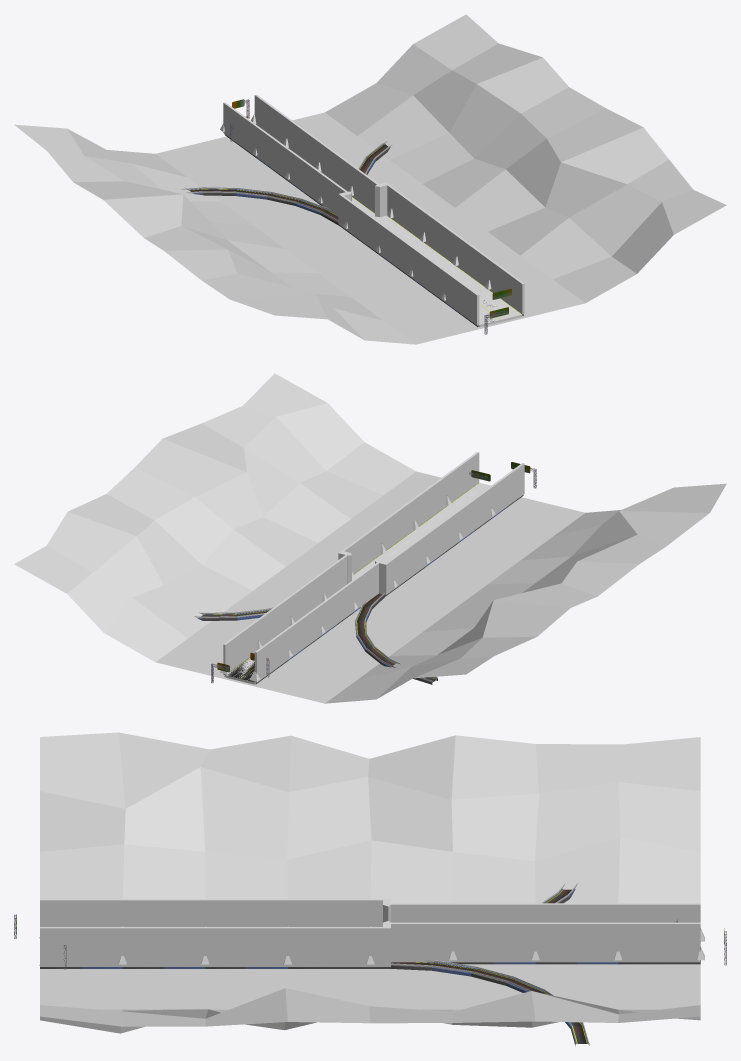
Rendered from RoadLevel1Last.fbx.
3 renders of one model, top to bottom at view 1: azimuth 30°, elevation 25°; view 2: azimuth 150°, elevation 25°; view 3: azimuth 270°, elevation 25°, orthographic. The views are drawn at different scales.
Parts seen in each view (by area): view 1: RoadLevel1Last, RoadLevel1Last_cldr_walls, RoadLevel1Last_cldr; view 2: RoadLevel1Last, RoadLevel1Last_cldr_walls, RoadLevel1Last_cldr; view 3: RoadLevel1Last, RoadLevel1Last_cldr_walls.
Boxes of the visible parts, <box> form: RoadLevel1Last: <box>14,14,726,344</box>; RoadLevel1Last_cldr_walls: <box>223,94,524,325</box>; RoadLevel1Last_cldr: <box>352,197,522,327</box>; RoadLevel1Last: <box>14,373,726,703</box>; RoadLevel1Last_cldr_walls: <box>223,452,524,682</box>; RoadLevel1Last_cldr: <box>225,483,490,684</box>; RoadLevel1Last: <box>14,732,726,1045</box>; RoadLevel1Last_cldr_walls: <box>40,899,700,966</box>.
Size of the model in its own units: 426 by 56.19 by 432.
